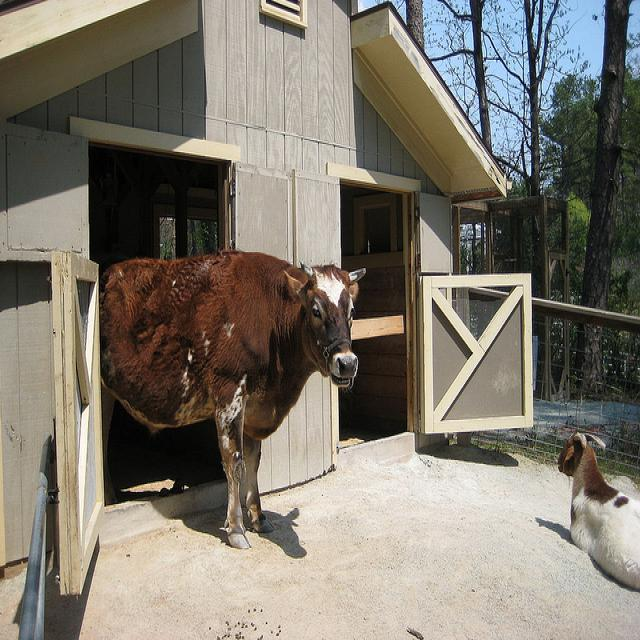cow: (96, 248, 365, 549)
